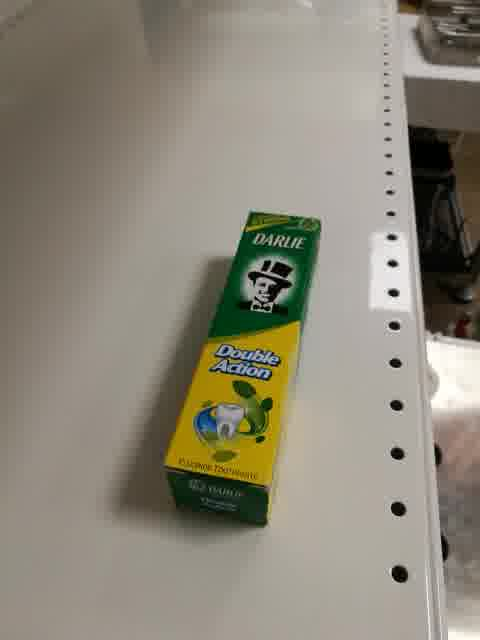toothpaste: (160, 210, 323, 530)
